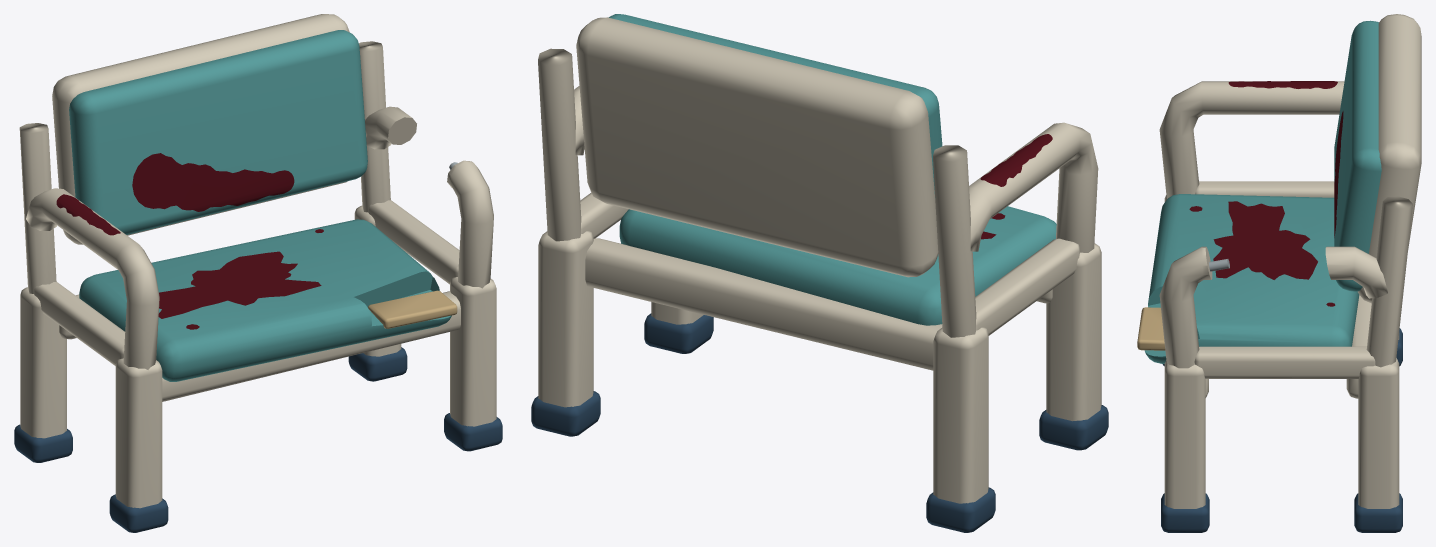
File: armchair.glb
3 views of the same model, side by side, from view 1: azimuth 30°, elevation 25°; view 2: azimuth 150°, elevation 25°; view 3: azimuth 270°, elevation 25° (orthographic). The views are drawn at different scales.
Parts seen in each view (by area): view 1: OB_StaffArmchair_01_Static; view 2: OB_StaffArmchair_01_Static; view 3: OB_StaffArmchair_01_Static.
Boxes of the visible parts, box(x1,y1,x2,y2) form: OB_StaffArmchair_01_Static: box(14, 14, 502, 532); OB_StaffArmchair_01_Static: box(531, 14, 1108, 532); OB_StaffArmchair_01_Static: box(1137, 14, 1421, 532).
Size of the model in its own units: 1.01 by 0.9242 by 0.6539.
